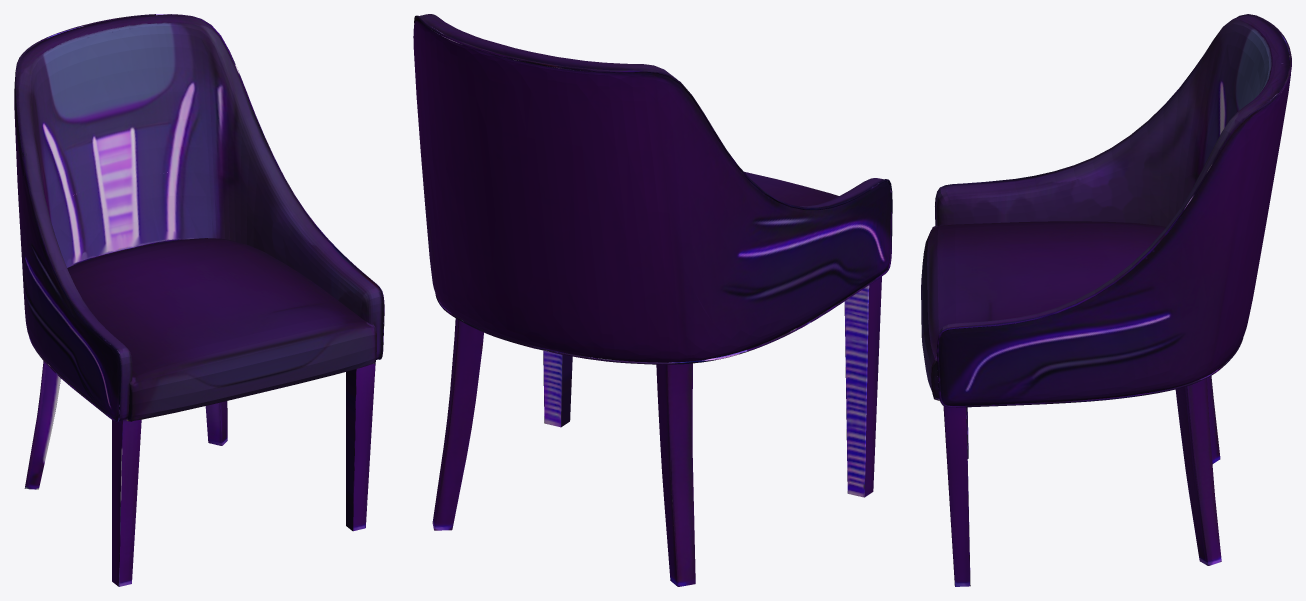
Rendered from edited_mesh.glb.
3 views of the same model, side by side, from view 1: azimuth 30°, elevation 25°; view 2: azimuth 150°, elevation 25°; view 3: azimuth 270°, elevation 25° (orthographic). The views are drawn at different scales.
Parts seen in each view (by area): view 1: solid_001_wire; view 2: solid_001_wire; view 3: solid_001_wire.
Boxes of the visible parts, x1,y1,x2,y2 form: solid_001_wire: (14, 14, 384, 586); solid_001_wire: (413, 14, 892, 586); solid_001_wire: (921, 14, 1291, 586).
Size of the model in its own units: 0.9742 by 1.47 by 1.07.
1 material, 1 textured.
